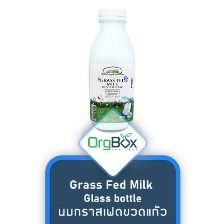bottle: (84, 2, 142, 133)
